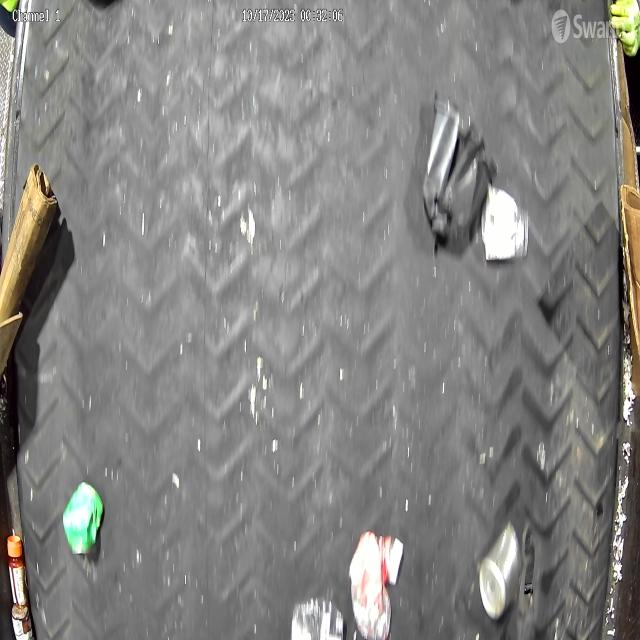can: (478, 519, 524, 621)
plastic_bottle: (288, 596, 345, 640)
